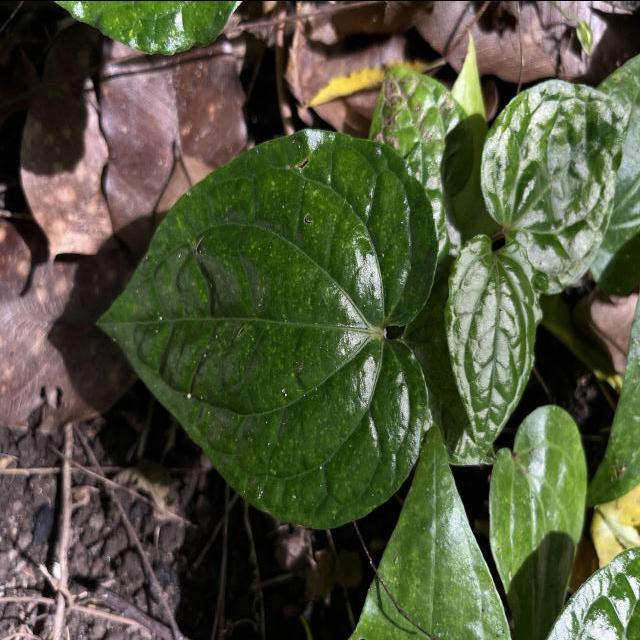Piper betle: (91, 124, 442, 534)
